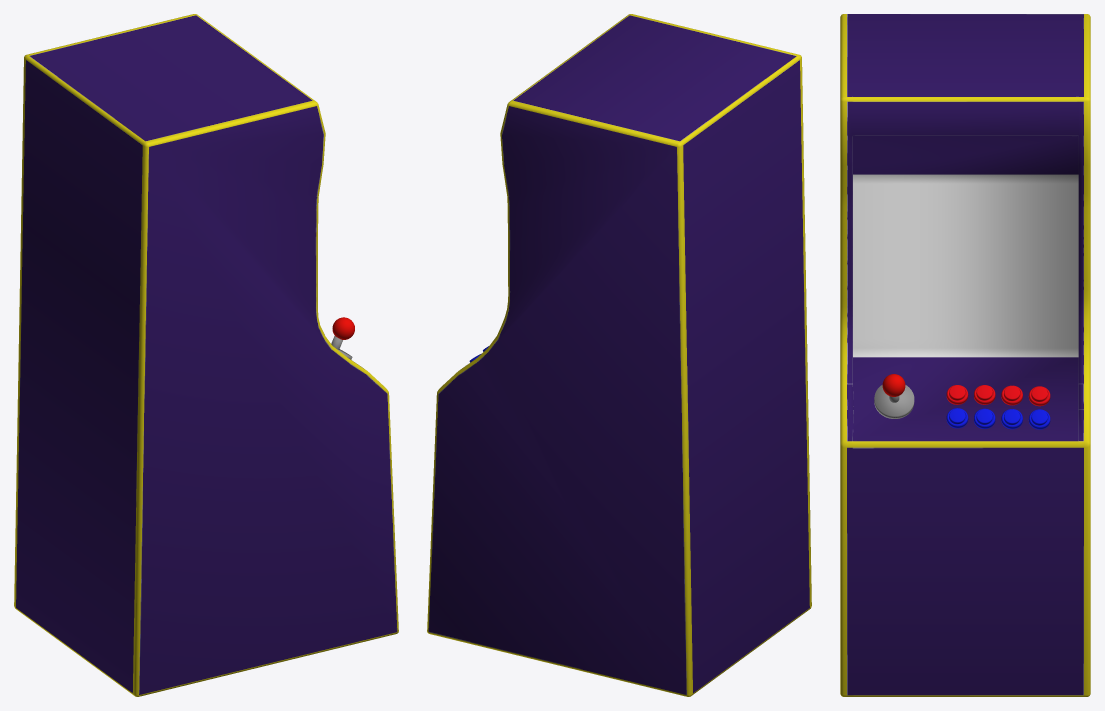
File: Arcade_Machine.glb
3 views of the same model, side by side, from view 1: azimuth 30°, elevation 25°; view 2: azimuth 150°, elevation 25°; view 3: azimuth 270°, elevation 25° (orthographic).
Parts seen in each view (by area): view 1: Cube; view 2: Cube; view 3: Cube, Cylinder.
Boxes of the visible parts, box(x1,y1,x2,y2) form: Cube: box(14, 14, 398, 696); Cube: box(427, 14, 811, 696); Cube: box(840, 14, 1090, 696); Cylinder: box(874, 374, 914, 418).
Bounding box in the file's own units: 2.47 × 4.93 × 2.
7 materials, 1 textured.
